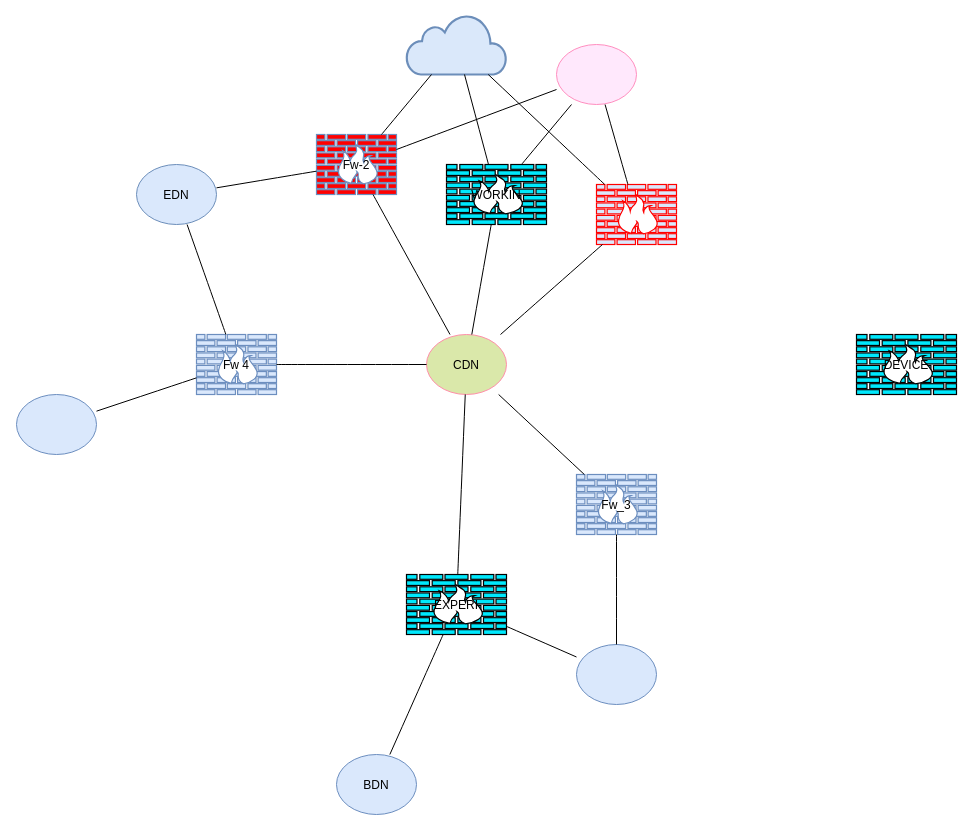
Some shapes in this 973 by 831 pixel diagram are drawn without their labels. Here are the shapes that lost their labels. From the top down, the centre of each, then its label:
pixel 456 44: Internet
pixel 596 74: DMZ
pixel 636 214: Fw 1
pixel 56 424: FDN
pixel 616 674: ADN
